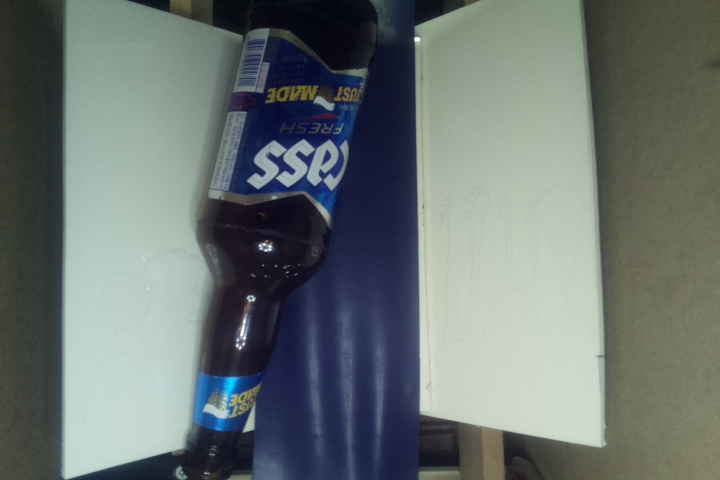makju: (173, 1, 385, 478)
